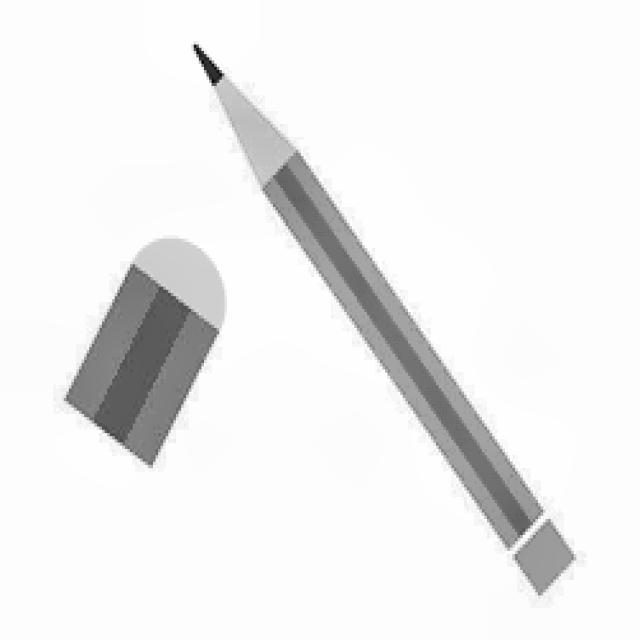eraser: (65, 234, 229, 471)
